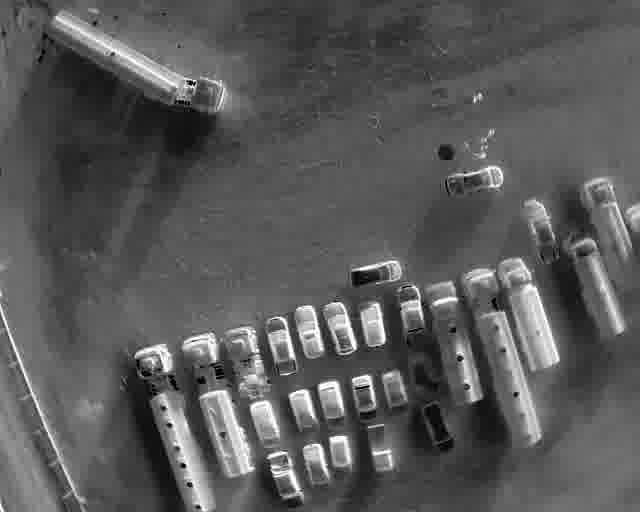car: (521, 196, 559, 266), (267, 450, 306, 510), (421, 399, 457, 456), (322, 300, 358, 356), (444, 165, 506, 196), (264, 316, 296, 376), (395, 284, 426, 344), (294, 304, 325, 362), (344, 259, 402, 289), (355, 298, 388, 350), (316, 378, 349, 430), (367, 422, 397, 478), (351, 373, 381, 428), (381, 368, 411, 422), (288, 388, 320, 437), (251, 400, 284, 447), (303, 441, 330, 489), (327, 433, 353, 480)
person: (472, 90, 484, 104), (472, 151, 487, 159), (462, 139, 471, 151), (487, 127, 496, 137), (479, 135, 488, 144), (480, 144, 489, 151)
truck: (42, 9, 225, 114), (459, 267, 543, 450), (131, 344, 220, 512), (181, 332, 253, 477), (423, 279, 483, 408), (579, 174, 640, 298), (561, 227, 626, 341), (495, 258, 559, 373), (220, 326, 268, 402)
